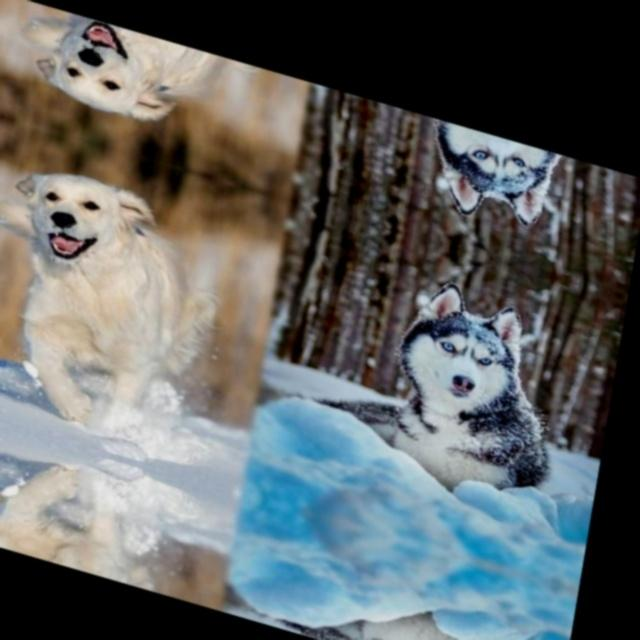dog: (0, 145, 240, 459), (342, 264, 569, 530), (21, 3, 263, 161), (0, 436, 190, 598), (390, 109, 595, 244), (314, 567, 518, 640)
